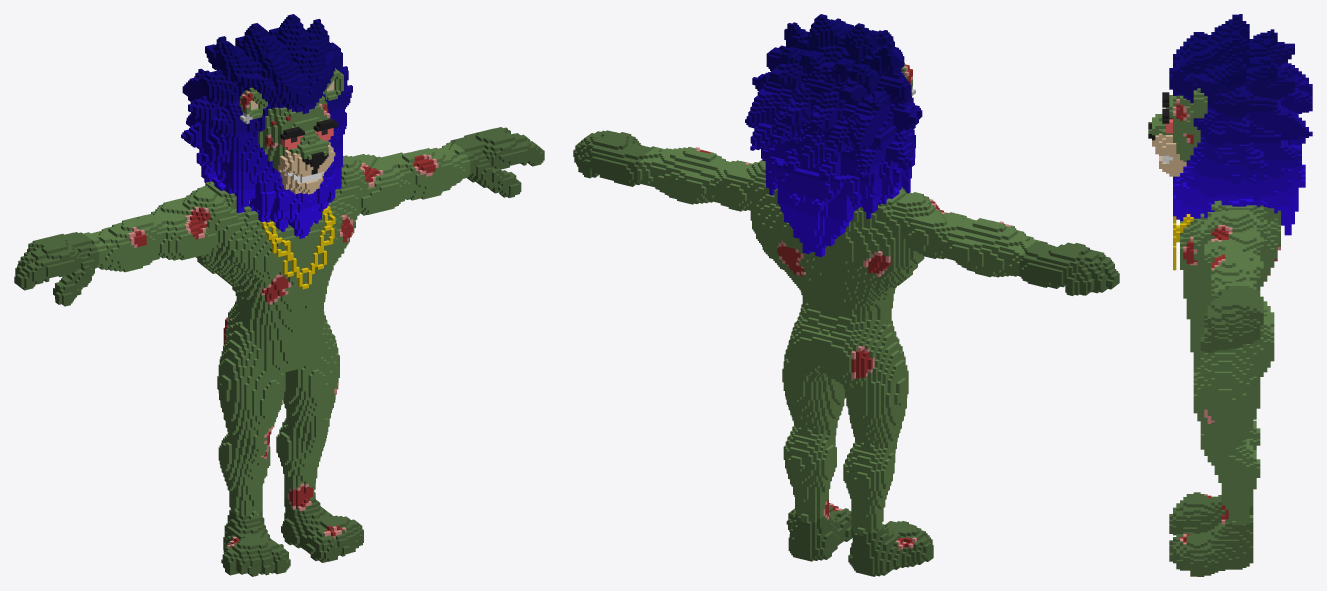
The model's file is 606-VZ2T5KOY.glb.
3 views of the same model, side by side, from view 1: azimuth 30°, elevation 25°; view 2: azimuth 150°, elevation 25°; view 3: azimuth 270°, elevation 25° (orthographic). The views are drawn at different scales.
Parts seen in each view (by area): view 1: big_smile; view 2: big_smile; view 3: big_smile.
Boxes of the visible parts, x1,y1,x2,y2 form: big_smile: (14,14,544,576); big_smile: (573,14,1119,576); big_smile: (1148,14,1312,576).
Size of the model in its own units: 17.2 by 16.5 by 4.7.
6 materials, 6 textured.
